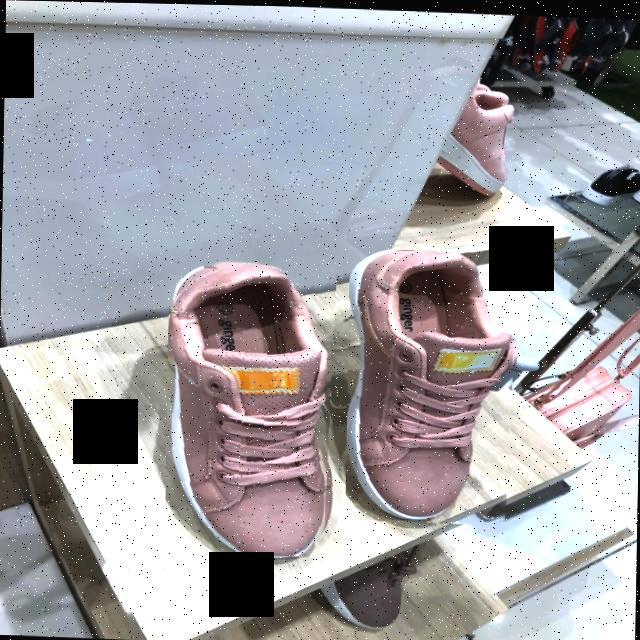shoe: (168, 264, 329, 555), (347, 248, 515, 520)
